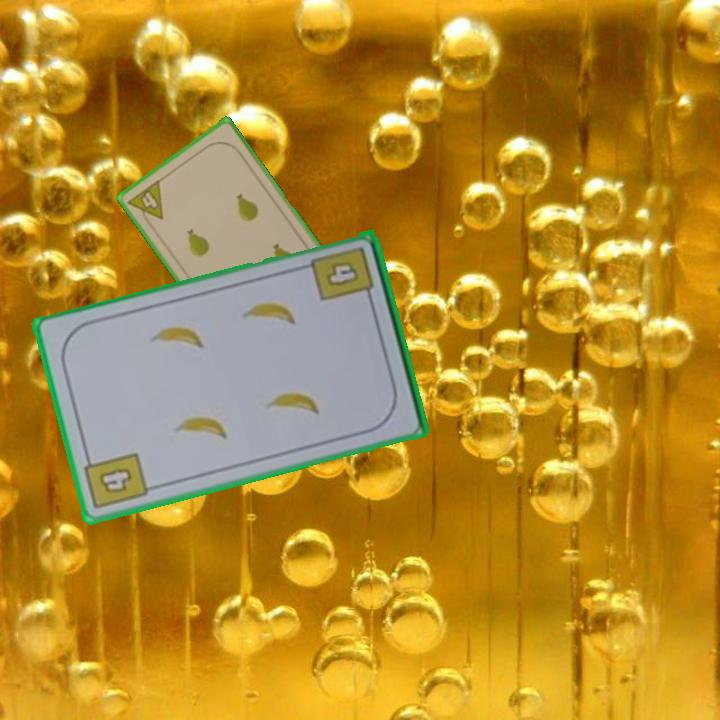4b: (81, 449, 151, 513), (321, 261, 358, 287)
4p: (124, 176, 166, 230)
